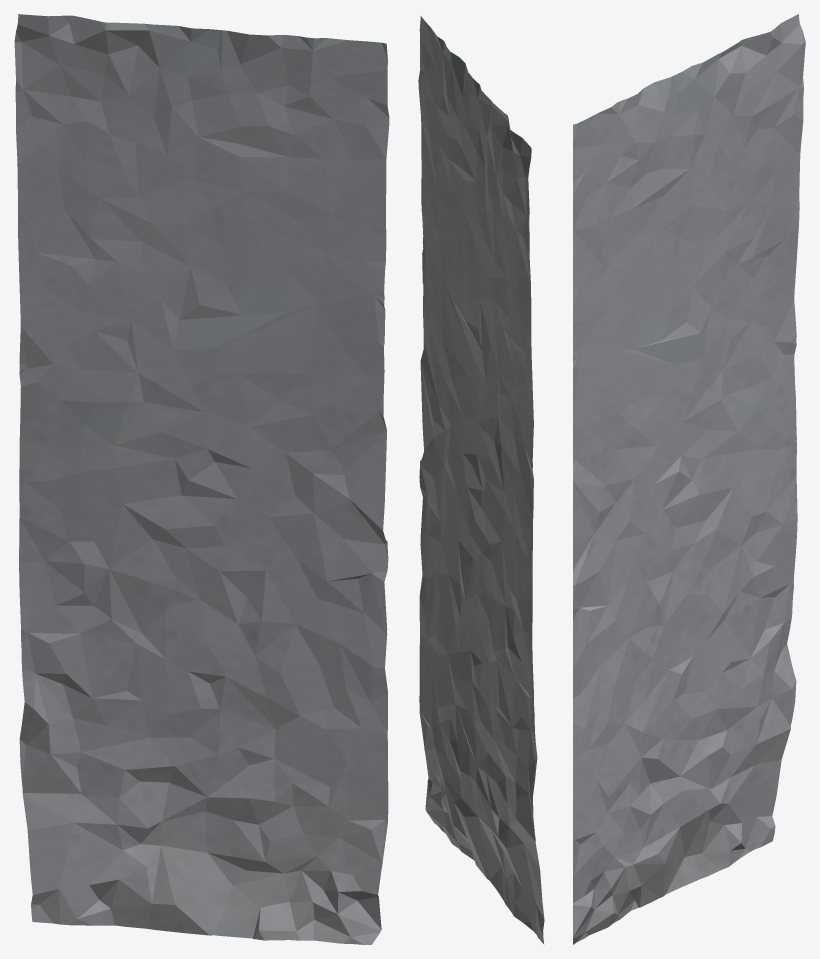
3 renders of one model, left to right at view 1: azimuth 30°, elevation 25°; view 2: azimuth 150°, elevation 25°; view 3: azimuth 270°, elevation 25°, orthographic. The views are drawn at different scales.
Bounding box in the file's own units: 0.2428 × 0.8374 × 0.2136.
1 material, 1 textured.
